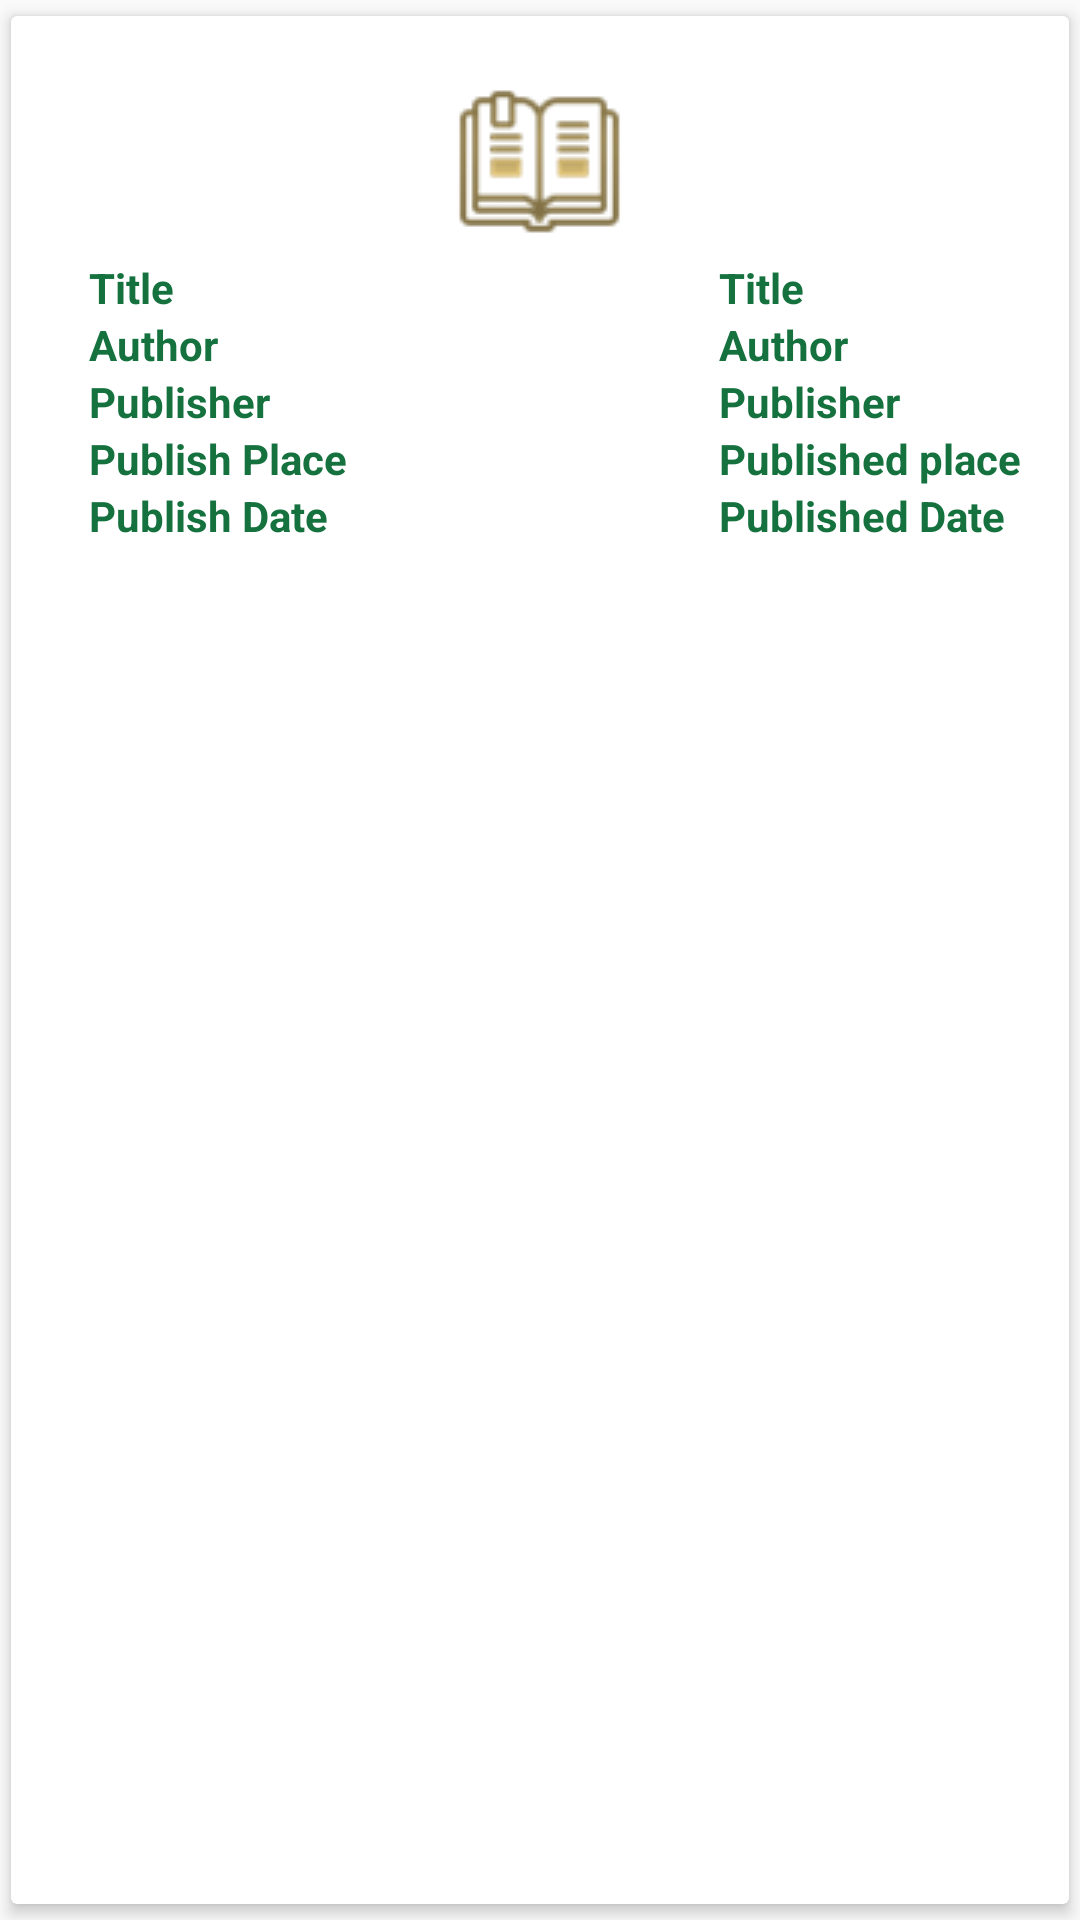

Icon bounding boxes for this 1080w x 1920h phone screenshot, format bbox(x1, y1, x2, y2):
book: bbox(459, 90, 620, 233)
